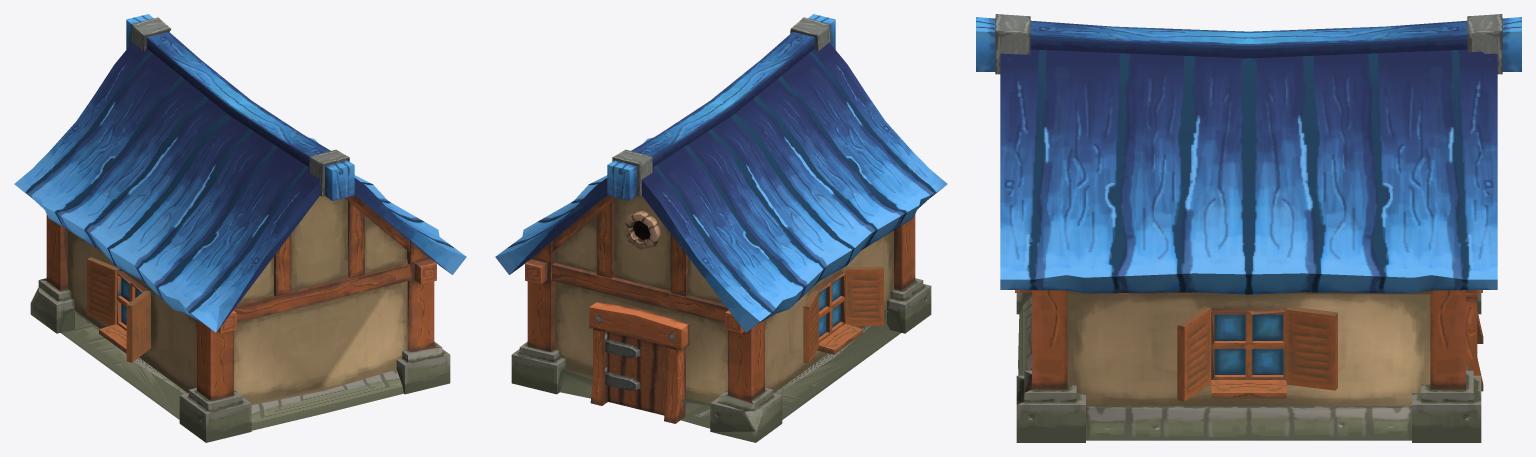
The model's file is HOS0110018.fbx.
3 renders of one model, left to right at view 1: azimuth 30°, elevation 25°; view 2: azimuth 150°, elevation 25°; view 3: azimuth 270°, elevation 25°, orthographic. The views are drawn at different scales.
Visible parts, largest first — view 1: smHOS0110018; view 2: smHOS0110018; view 3: smHOS0110018.
Boxes of the visible parts, box(x1,y1,x2,y2) form: smHOS0110018: box(14, 14, 466, 442); smHOS0110018: box(495, 14, 947, 442); smHOS0110018: box(976, 14, 1521, 442).
Size of the model in its own units: 797 by 712 by 1030.
Materials: 1 (1 with a texture image).
